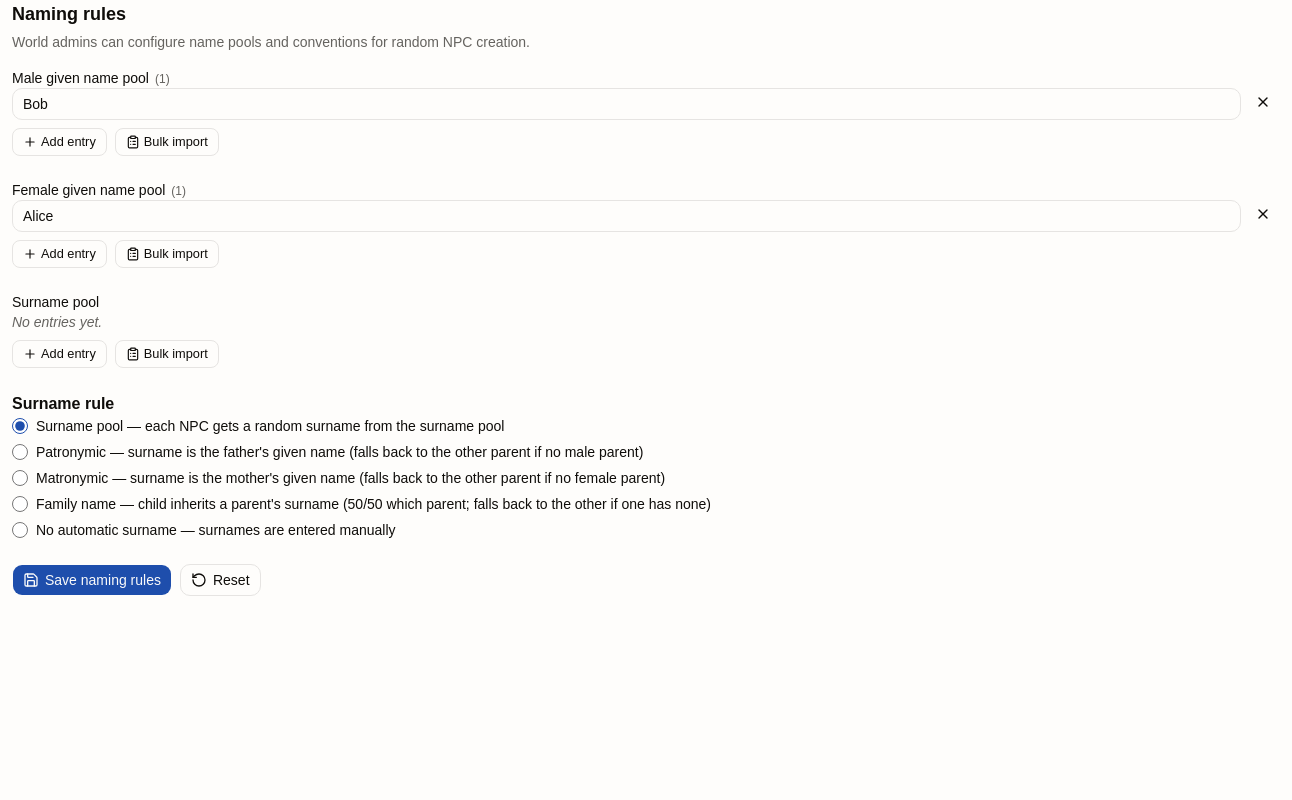
Test case: WorldNamingConfigPanel › drops blank-on-add rows from name pools when saving
The image size is (1292, 800).
Expected: the heading "Naming rules" is shown, [12,4,126,24]
Expected: the number of fields is 2, [12,88,1241,120]; [12,200,1241,232]
Step 1. Click the 1st button "Add entry" → x=59, y=142, box [12,128,107,156]
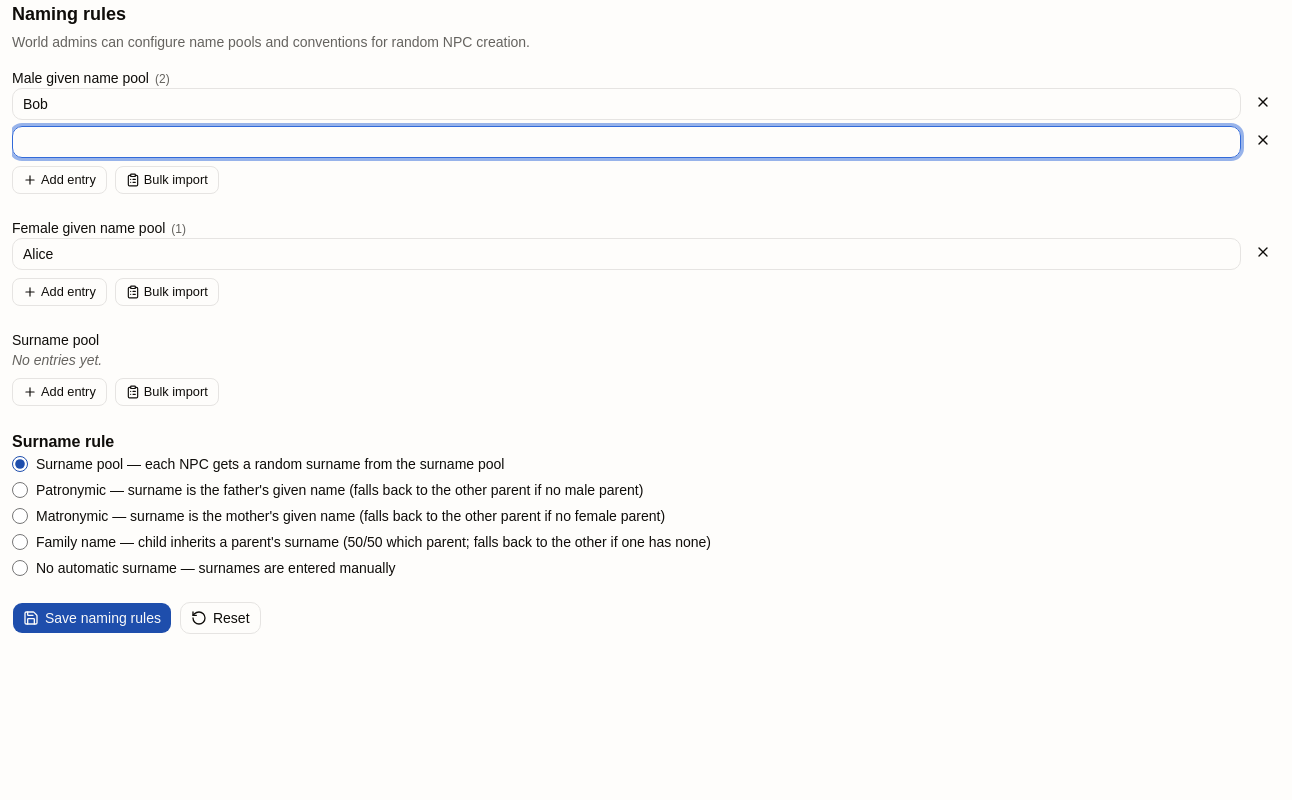
Expected: the number of fields is 3, [12,88,1241,120]; [12,126,1241,158]; [12,238,1241,270]
Step 2. Click the button "Save naming rules" → x=92, y=618, box [12,602,172,634]
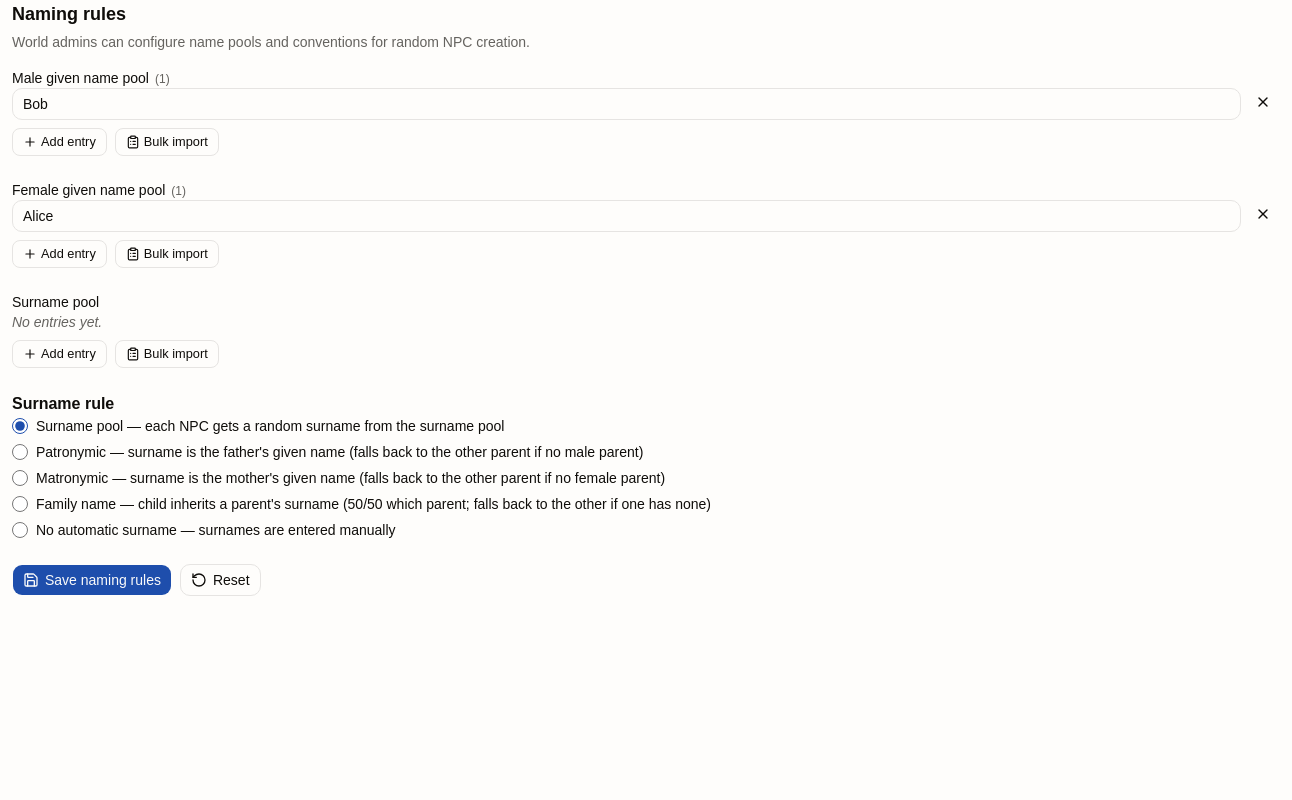
Expected: the 1st field showing "Bob" is shown, [12,88,1241,120]
Expected: the number of fields is 2, [12,88,1241,120]; [12,200,1241,232]
